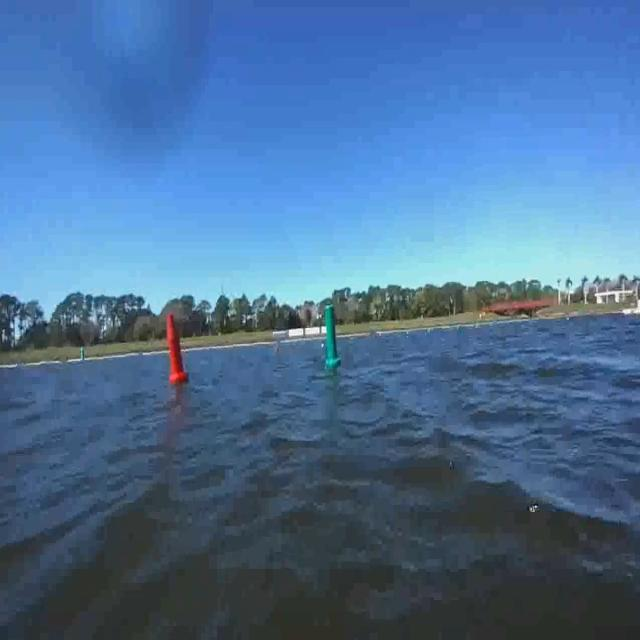green-column-buoy: (323, 306, 340, 370)
red-column-buoy: (166, 312, 188, 386)
